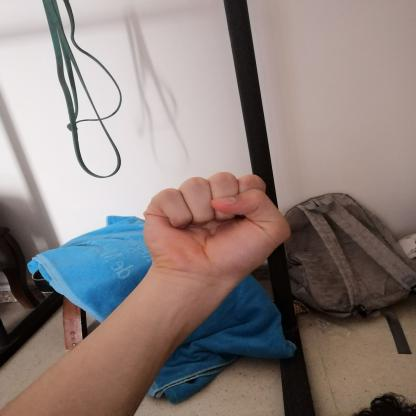SAD: (132, 165, 300, 288)
